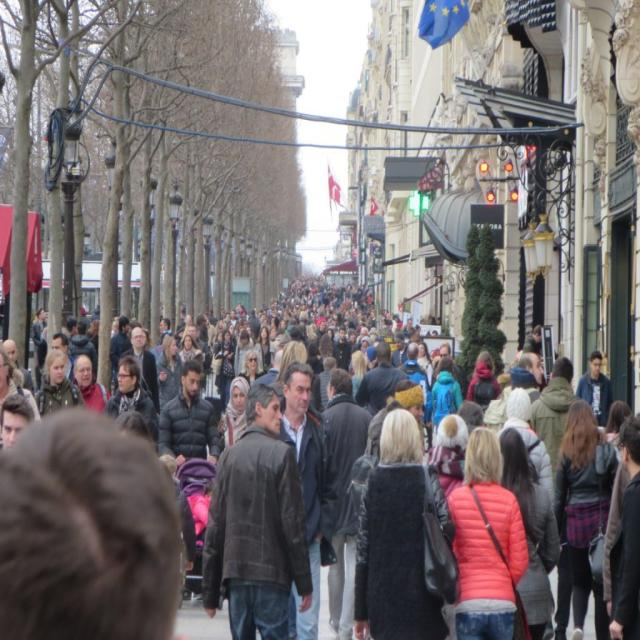body: (0, 391, 185, 640), (198, 380, 317, 639), (350, 405, 463, 639), (446, 425, 530, 637), (550, 396, 620, 639), (350, 405, 422, 640), (276, 359, 329, 640), (320, 365, 374, 640), (498, 426, 561, 640), (529, 355, 577, 605), (607, 411, 640, 639), (494, 386, 556, 506), (158, 358, 220, 467), (102, 353, 159, 446), (424, 409, 472, 503), (354, 340, 411, 418), (260, 269, 322, 332), (321, 272, 376, 338), (34, 347, 84, 418), (120, 324, 158, 413), (175, 292, 261, 328), (430, 357, 464, 448), (396, 341, 431, 428), (575, 350, 614, 428), (269, 339, 309, 405), (129, 326, 159, 413), (71, 352, 111, 414), (375, 305, 444, 339), (501, 351, 545, 404), (466, 350, 502, 414), (155, 333, 183, 415), (222, 375, 252, 451), (65, 320, 98, 386), (416, 340, 435, 454), (108, 315, 134, 397), (602, 398, 634, 464), (432, 343, 467, 401), (1, 340, 35, 398), (458, 377, 498, 425), (30, 306, 50, 396), (2, 338, 34, 394), (214, 329, 235, 414), (189, 479, 217, 540), (249, 346, 287, 388), (252, 324, 276, 380), (395, 378, 425, 422), (51, 332, 76, 384), (233, 328, 256, 378), (130, 292, 176, 316), (492, 354, 520, 392), (317, 356, 337, 409), (348, 338, 373, 377), (332, 326, 352, 372), (316, 332, 338, 373), (176, 332, 202, 363), (390, 331, 409, 369), (85, 318, 101, 358), (523, 322, 543, 353), (60, 316, 80, 346), (187, 322, 206, 353), (203, 327, 223, 355), (36, 327, 49, 369), (305, 341, 323, 370), (232, 325, 260, 343), (155, 317, 171, 345), (248, 309, 260, 342), (110, 316, 120, 339), (90, 302, 101, 321), (288, 324, 300, 340)
